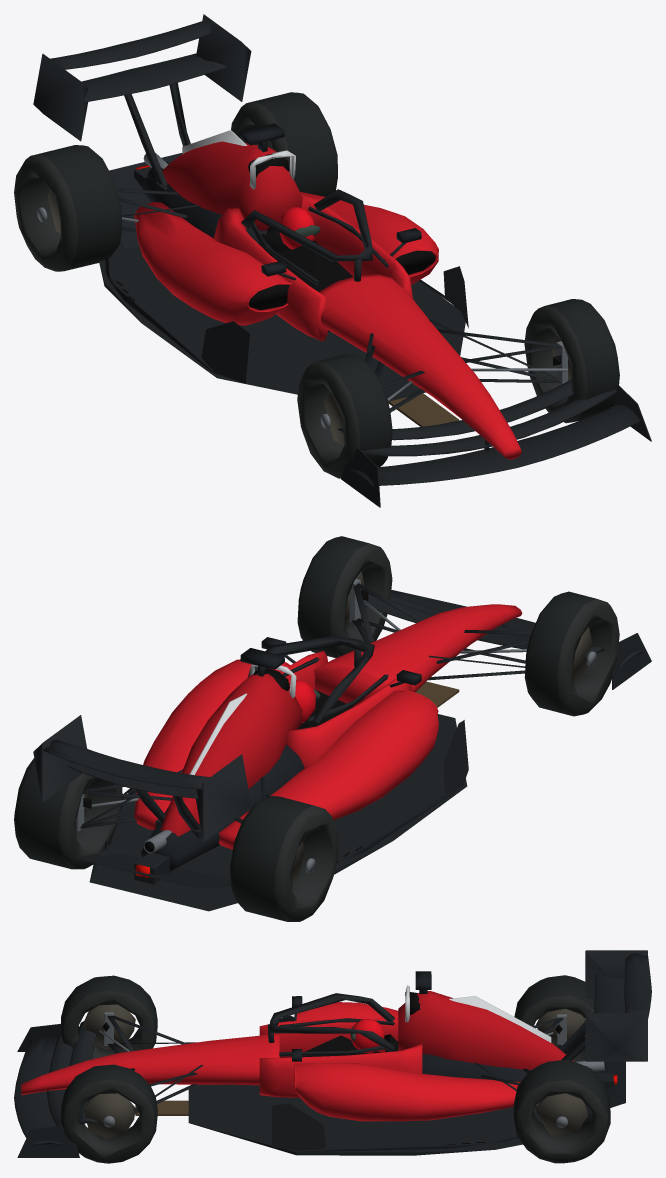
The picture shows the model from 3 angles, top to bottom: view 1: azimuth 30°, elevation 25°; view 2: azimuth 150°, elevation 25°; view 3: azimuth 270°, elevation 25°; orthographic projection. The views are drawn at different scales.
Visible parts, largest first — view 1: L3_Chassis, L3_Wheel_RL, L3_Wheel_FL, L3_Wheel_FR, L3_Wheel_RR; view 2: L3_Chassis, L3_Wheel_RL, L3_Wheel_FL, L3_Wheel_RR, L3_Wheel_FR; view 3: L3_Chassis, L3_Wheel_RR, L3_Wheel_FR, L3_Wheel_FL, L3_Wheel_RL.
Part boxes in pixels (x1,y1,x2,y2): L3_Chassis: (33, 14, 651, 507); L3_Wheel_RL: (14, 145, 122, 271); L3_Wheel_FL: (297, 354, 392, 478); L3_Wheel_FR: (524, 299, 619, 423); L3_Wheel_RR: (231, 92, 337, 196); L3_Chassis: (33, 572, 651, 911); L3_Wheel_RL: (229, 796, 338, 921); L3_Wheel_FL: (524, 591, 619, 716); L3_Wheel_RR: (14, 758, 122, 869); L3_Wheel_FR: (297, 536, 392, 658); L3_Chassis: (14, 950, 651, 1157); L3_Wheel_RR: (513, 1059, 610, 1163); L3_Wheel_FR: (61, 1064, 157, 1163); L3_Wheel_FL: (61, 975, 157, 1059); L3_Wheel_RL: (514, 975, 594, 1061).
Bounding box in the file's own units: 1.9 × 1.13 × 4.79.
